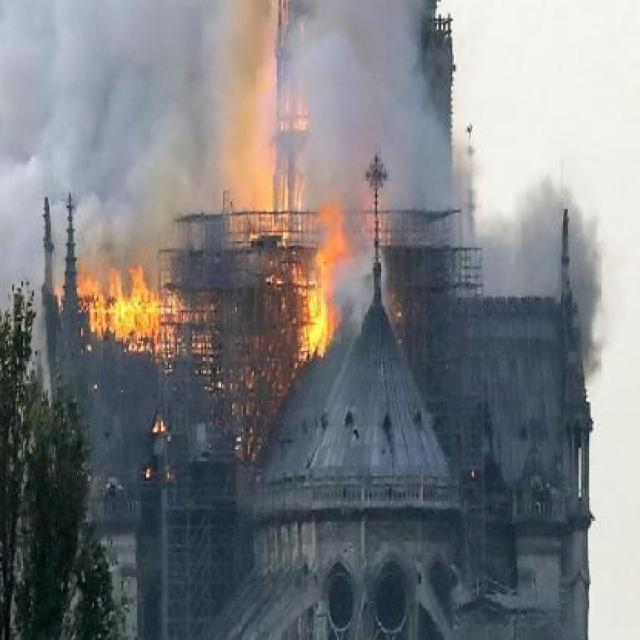Fire: (35, 188, 383, 388)
Smoke: (0, 0, 232, 216), (302, 0, 462, 180), (487, 200, 630, 364)
